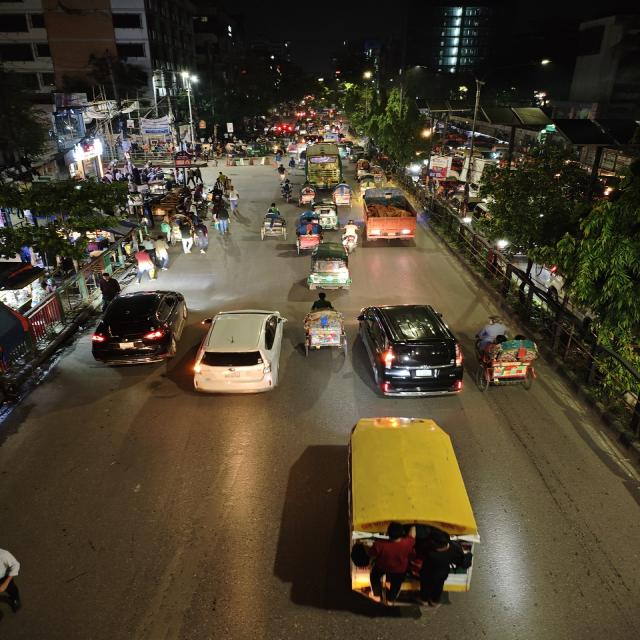bicycle: (338, 218, 361, 254)
bus: (303, 144, 343, 187)
car: (352, 301, 467, 399), (191, 306, 292, 399), (89, 286, 192, 371)
cng: (306, 243, 354, 293), (316, 202, 340, 230)
human_hauler: (340, 416, 482, 625)
motorcycle: (280, 179, 295, 201)
pedestrian: (89, 270, 123, 308), (131, 244, 158, 284), (149, 234, 173, 272), (192, 220, 212, 256), (212, 205, 233, 238), (176, 220, 196, 253), (223, 184, 242, 213), (160, 217, 178, 243), (286, 157, 297, 175), (278, 164, 288, 183)
pickup_van: (359, 188, 422, 246)
rickshaw: (472, 316, 542, 394), (298, 292, 348, 359), (257, 204, 288, 242), (291, 223, 322, 253), (330, 180, 355, 208), (298, 183, 318, 207), (354, 160, 374, 177), (357, 174, 378, 190)
